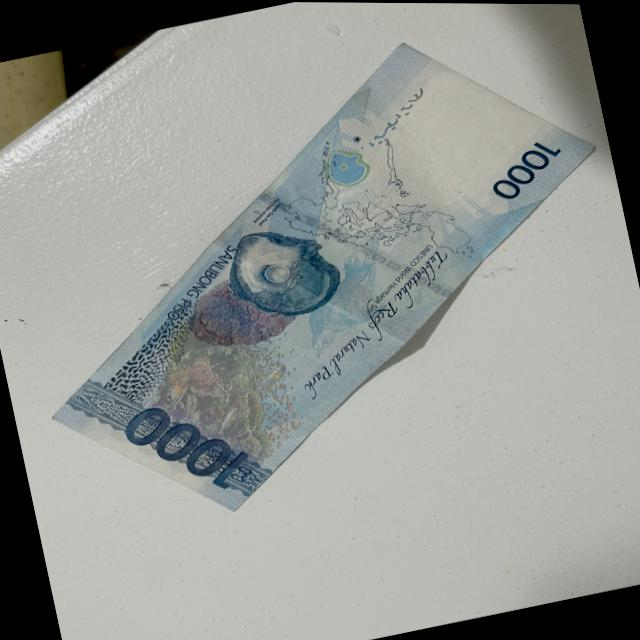1000_pearl: (227, 222, 335, 319)
1000_pearl_watermark: (316, 142, 369, 190)
